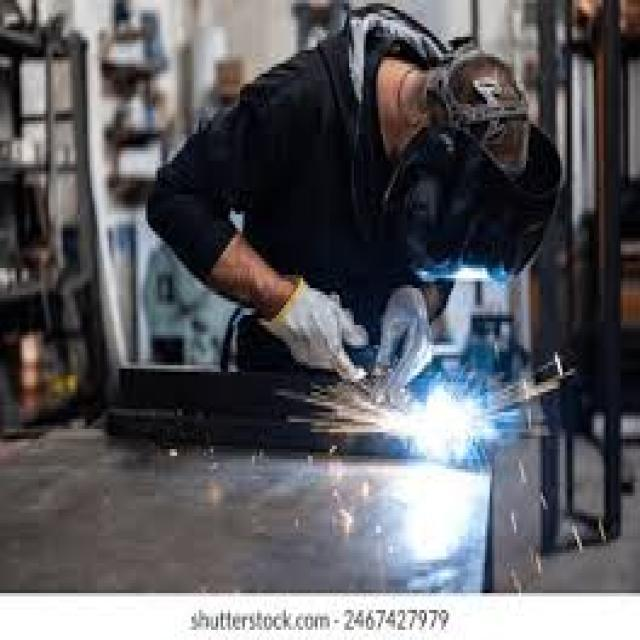welding: (414, 398, 464, 453)
